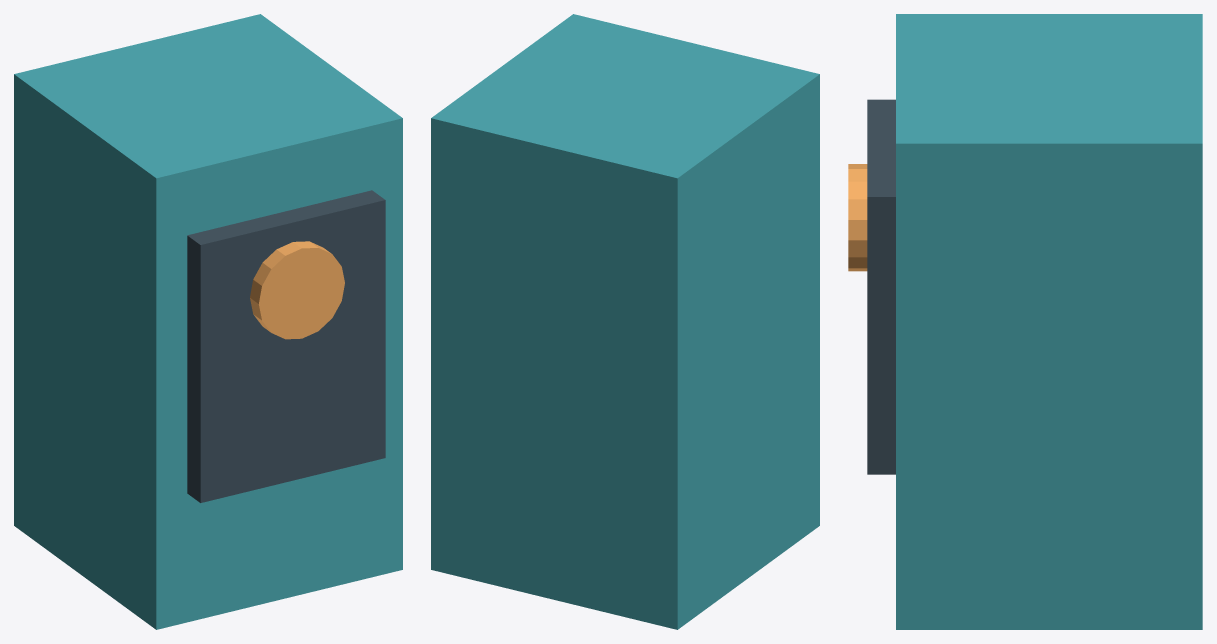
The model's file is sensor.glb.
3 views of the same model, side by side, from view 1: azimuth 30°, elevation 25°; view 2: azimuth 150°, elevation 25°; view 3: azimuth 270°, elevation 25° (orthographic). The views are drawn at different scales.
Bounding box in the file's own units: 0.16 × 0.28 × 0.185.
